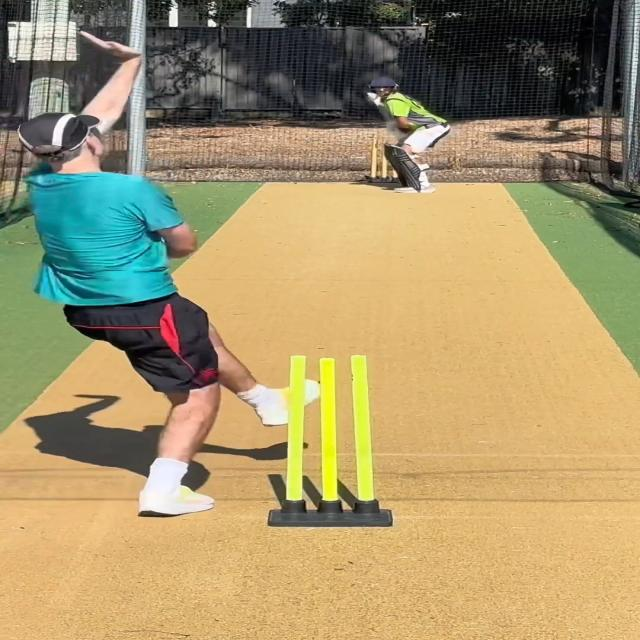stump: (262, 348, 395, 528)
